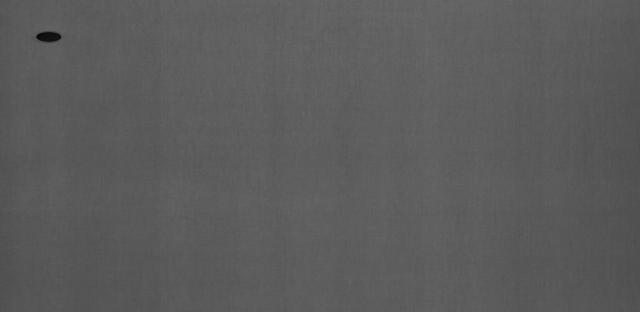punching_hole: (29, 27, 69, 46)
